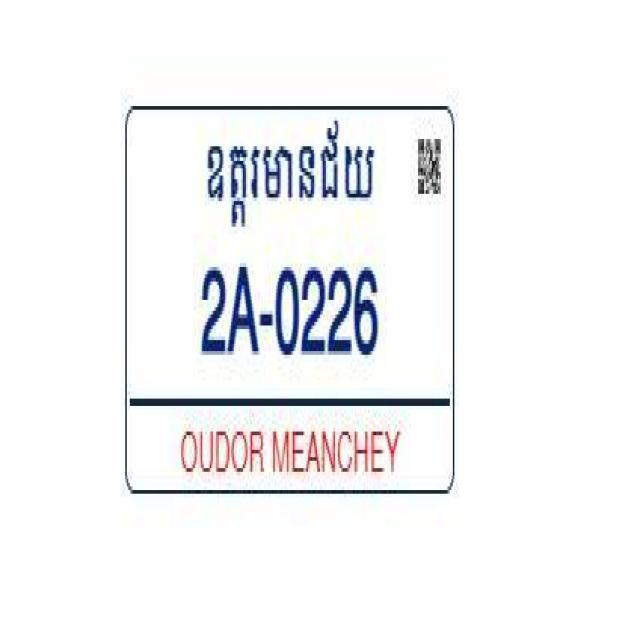Oudor_Meanchey: (199, 113, 376, 232)
